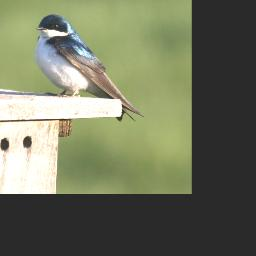Swallow: (33, 13, 145, 128)
